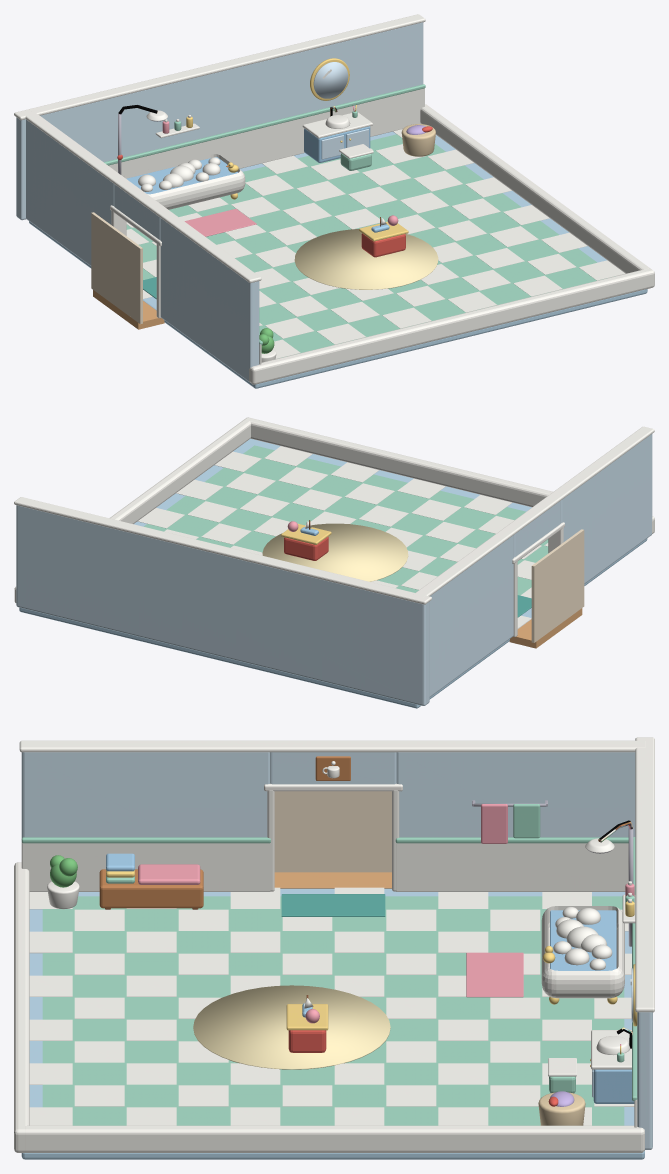
Rendered from room_bathroom.glb.
The picture shows the model from 3 angles, top to bottom: view 1: azimuth 30°, elevation 25°; view 2: azimuth 150°, elevation 25°; view 3: azimuth 270°, elevation 25°; orthographic projection. The views are drawn at different scales.
Parts seen in each view (by area): view 1: NAV_floor, floor_tiles, wall_N, wall_W_a, wall_S_low, wall_W_b, wall_N_tiles, rug_round, wall_E_low, doorway_view, wall_N_cap, floor (+12 smaller); view 2: wall_N, NAV_floor, floor_tiles, wall_W_b, wall_W_a, wall_S_low, rug_round, doorway_view, wall_N_cap, floor, wall_W_cap, wall_E_low (+4 smaller); view 3: NAV_floor, floor_tiles, wall_W_a, wall_W_b, wall_E_low, rug_round, wall_W_tiles_1, doorway_view, wall_W_cap, wall_W_tiles_0, floor, wall_N_cap (+25 smaller).
Boxes of the visible parts, left/top/right/bottom form: NAV_floor: left=126, top=134, right=614, bottom=357; floor_tiles: left=126, top=129, right=625, bottom=358; wall_N: left=16, top=22, right=423, bottom=220; wall_W_a: left=160, top=218, right=259, bottom=382; wall_S_low: left=249, top=268, right=654, bottom=384; wall_W_b: left=26, top=119, right=114, bottom=266; wall_N_tiles: left=108, top=88, right=424, bottom=176; rug_round: left=294, top=229, right=438, bottom=289; wall_E_low: left=420, top=104, right=649, bottom=273; doorway_view: left=91, top=212, right=142, bottom=324; wall_N_cap: left=14, top=14, right=425, bottom=120; floor: left=29, top=131, right=647, bottom=388; wall_N: left=16, top=505, right=429, bottom=705; NAV_floor: left=144, top=445, right=548, bottom=595; floor_tiles: left=137, top=446, right=548, bottom=628; wall_W_b: left=429, top=535, right=513, bottom=697; wall_W_a: left=561, top=434, right=652, bottom=583; wall_S_low: left=244, top=417, right=654, bottom=533; rug_round: left=262, top=523, right=408, bottom=581; doorway_view: left=531, top=529, right=584, bottom=642; wall_N_cap: left=14, top=497, right=431, bottom=604; floor: left=19, top=438, right=647, bottom=708; wall_W_cap: left=413, top=426, right=654, bottom=597; wall_E_low: left=14, top=419, right=250, bottom=602; NAV_floor: left=42, top=896, right=624, bottom=1125; floor_tiles: left=29, top=887, right=634, bottom=1125; wall_W_a: left=21, top=752, right=270, bottom=838; wall_W_b: left=396, top=752, right=635, bottom=837; wall_E_low: left=25, top=1125, right=644, bottom=1152; rug_round: left=193, top=985, right=390, bottom=1069; wall_W_tiles_1: left=396, top=843, right=628, bottom=891; doorway_view: left=274, top=791, right=391, bottom=872; wall_W_cap: left=19, top=740, right=645, bottom=752; wall_W_tiles_0: left=21, top=842, right=270, bottom=891; floor: left=21, top=888, right=644, bottom=1159; wall_N_cap: left=635, top=737, right=654, bottom=1012.
Size of the model in its own units: 6.47 by 1.63 by 6.17.
1 material, 1 textured.
